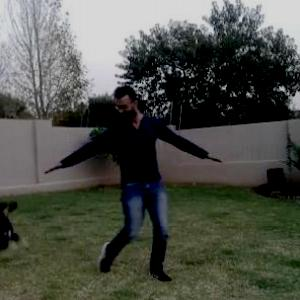land: (42, 91, 202, 267)
